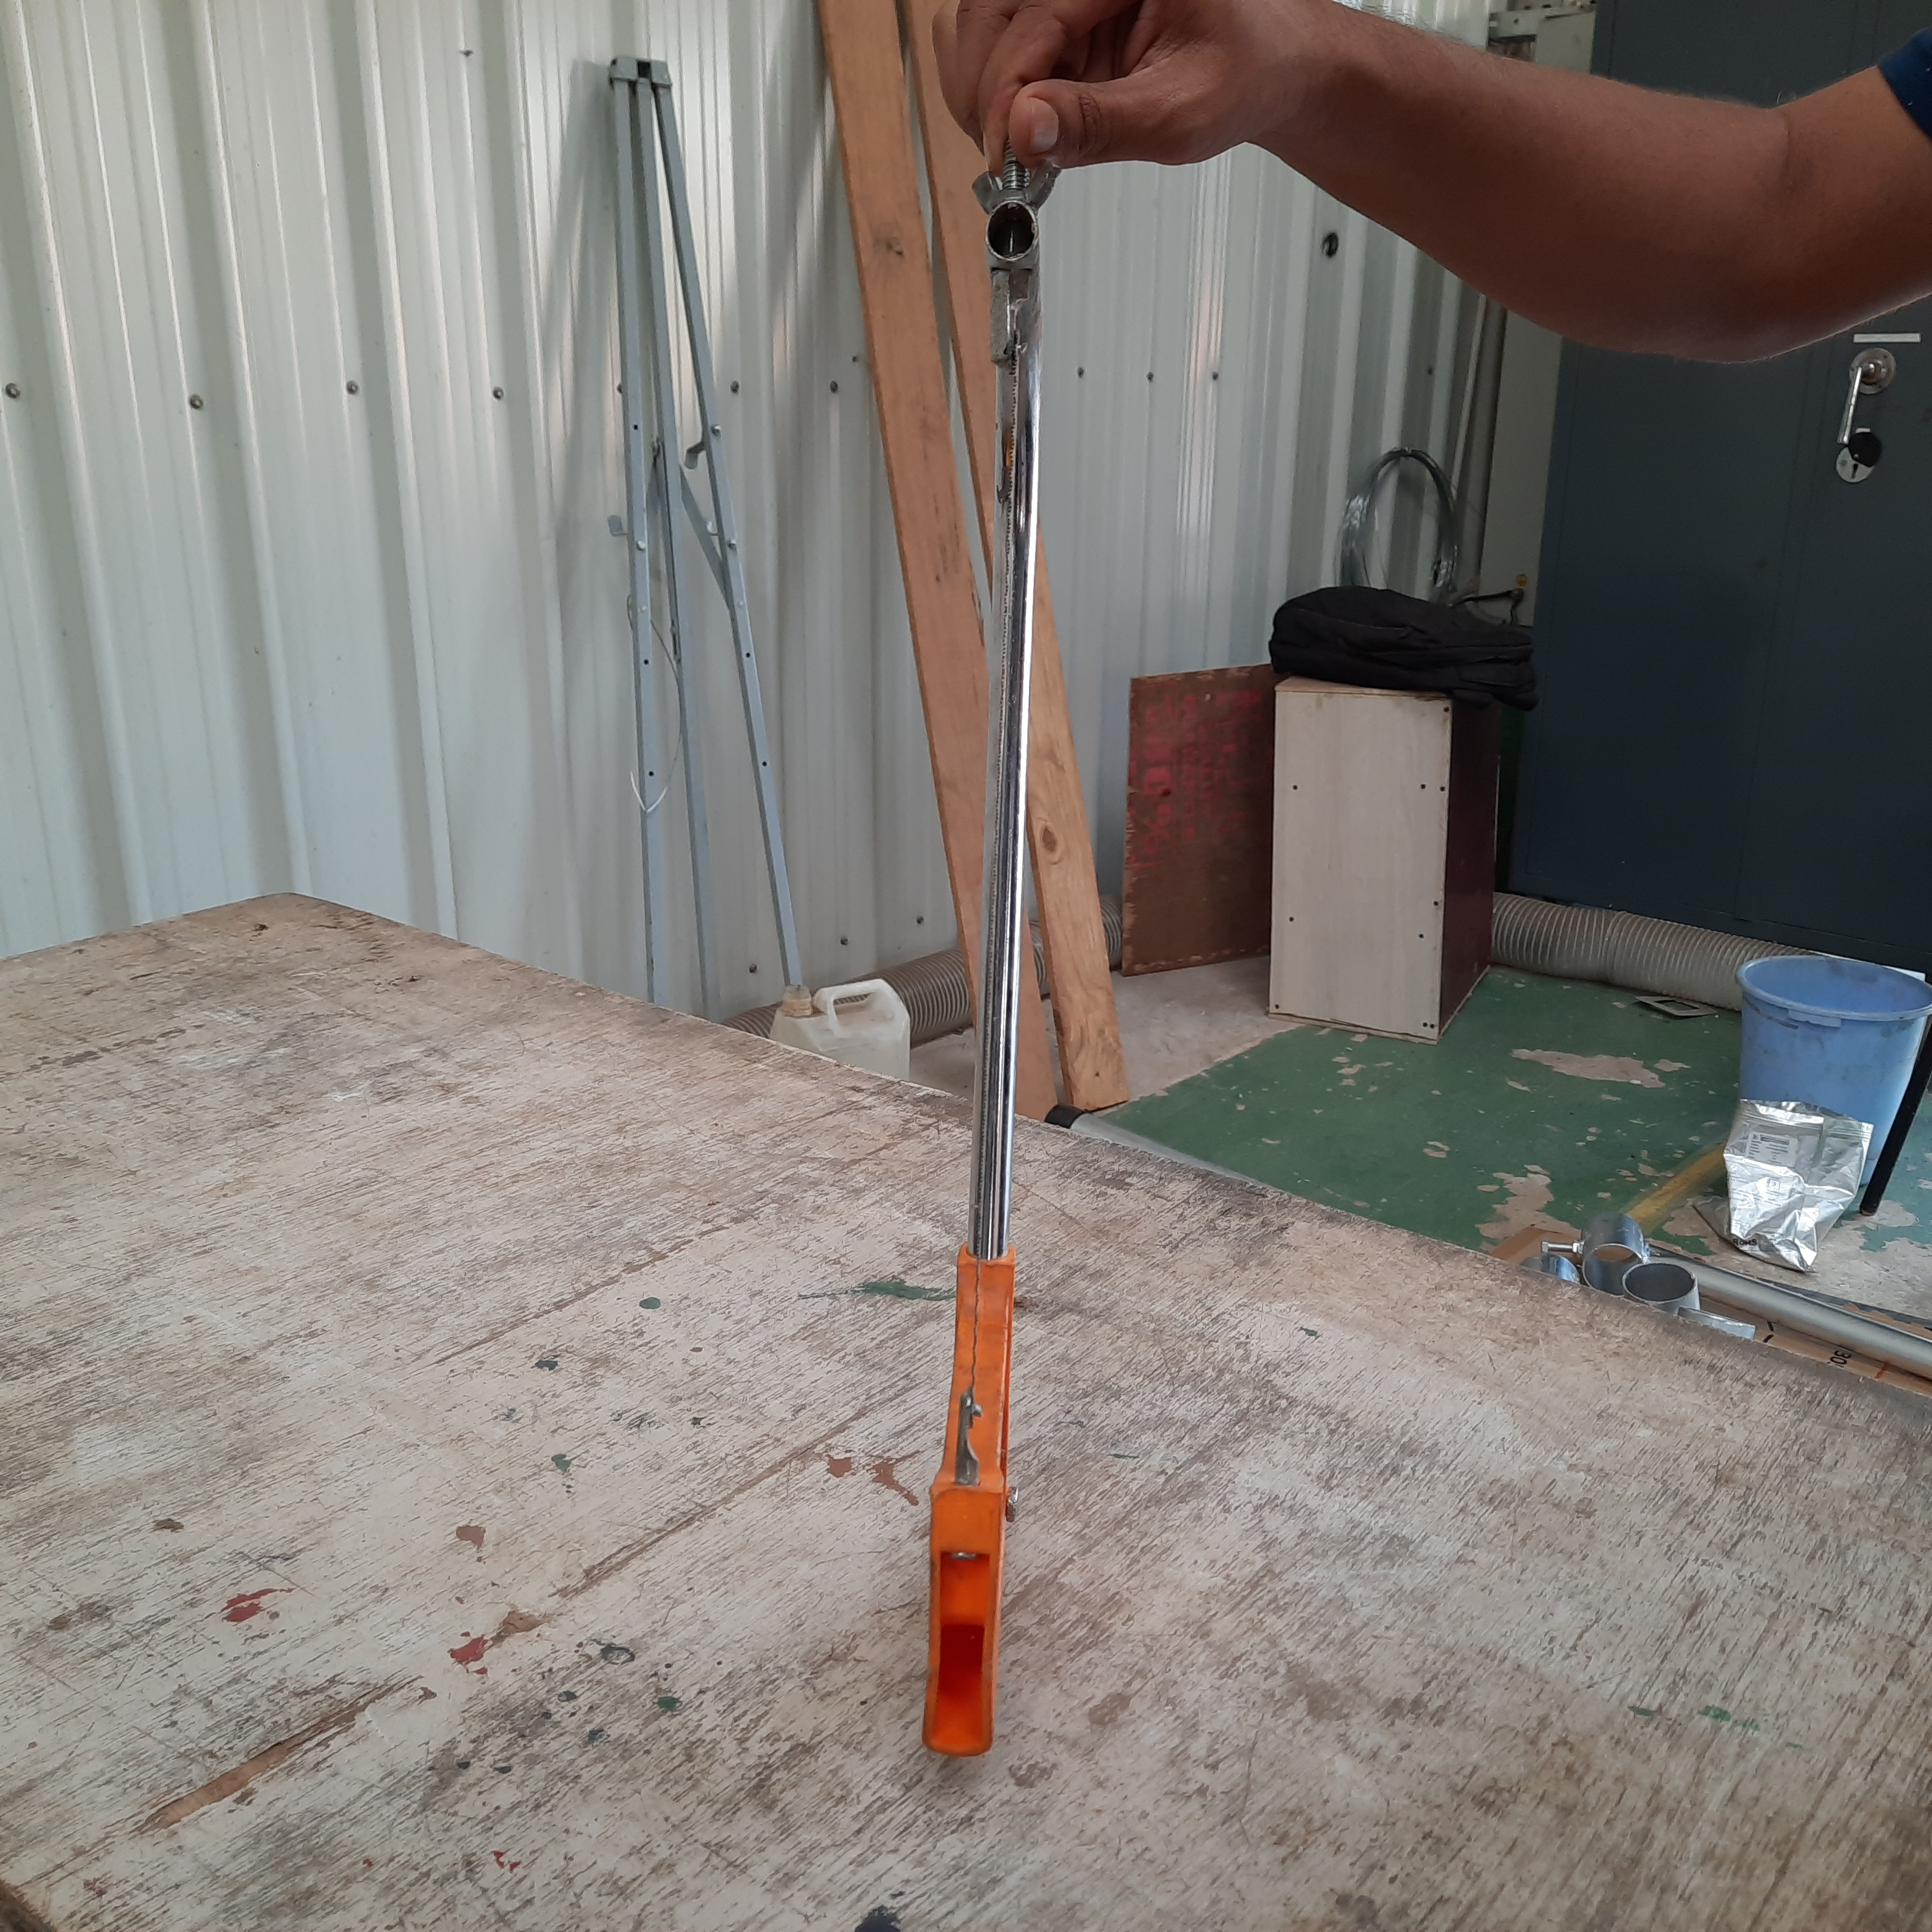Hexaframe: (895, 152, 1060, 1732)
